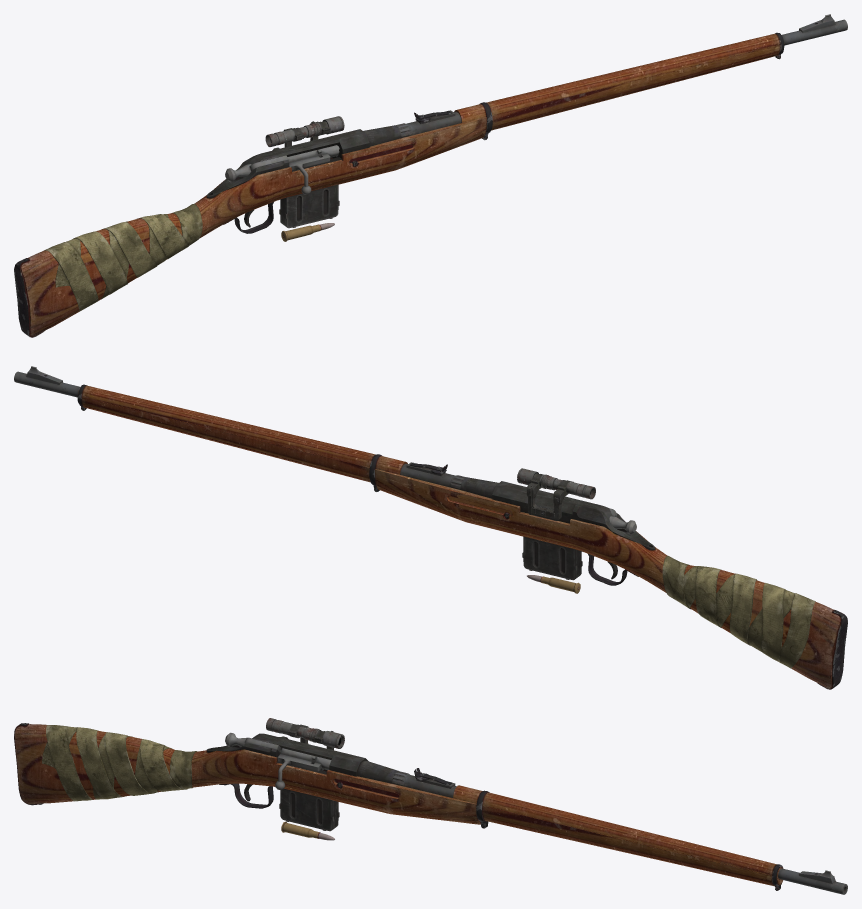
The model's file is bolt_rifle.glb.
3 renders of one model, top to bottom at view 1: azimuth 30°, elevation 25°; view 2: azimuth 150°, elevation 25°; view 3: azimuth 330°, elevation 25°, orthographic.
Visible parts, largest first — view 1: bolt_action_rifle_7_62, bolt_action_rifle_7_62_scope; view 2: bolt_action_rifle_7_62, bolt_action_rifle_7_62_scope; view 3: bolt_action_rifle_7_62, bolt_action_rifle_7_62_scope.
Part boxes in pixels (left/top/right/bottom): bolt_action_rifle_7_62: left=14, top=14, right=847, bottom=337; bolt_action_rifle_7_62_scope: left=44, top=116, right=344, bottom=311; bolt_action_rifle_7_62: left=14, top=366, right=847, bottom=689; bolt_action_rifle_7_62_scope: left=517, top=468, right=815, bottom=668; bolt_action_rifle_7_62: left=14, top=723, right=847, bottom=894; bolt_action_rifle_7_62_scope: left=42, top=718, right=344, bottom=801.
Bounding box in the file's own units: 1.23 × 0.2045 × 0.0665.
3 materials, 3 textured.
